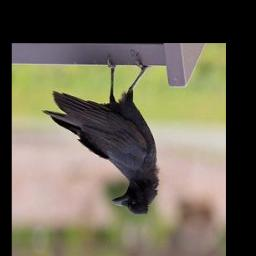Crow: (41, 55, 161, 216)
